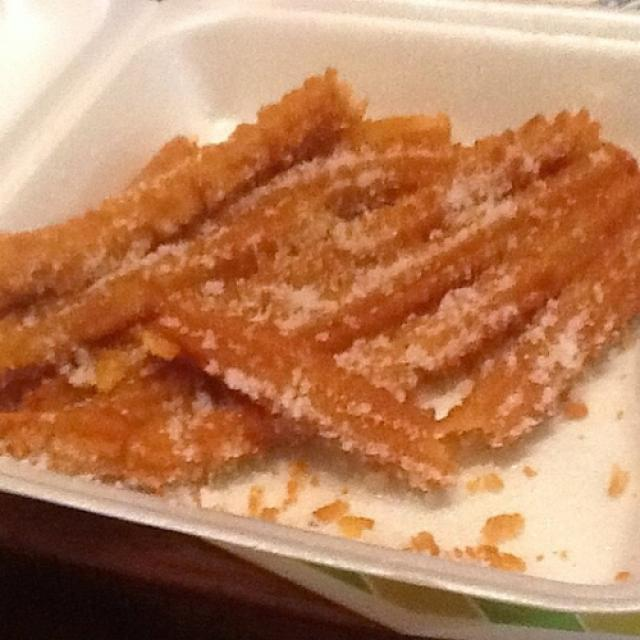炸货点心: (9, 13, 619, 623)
